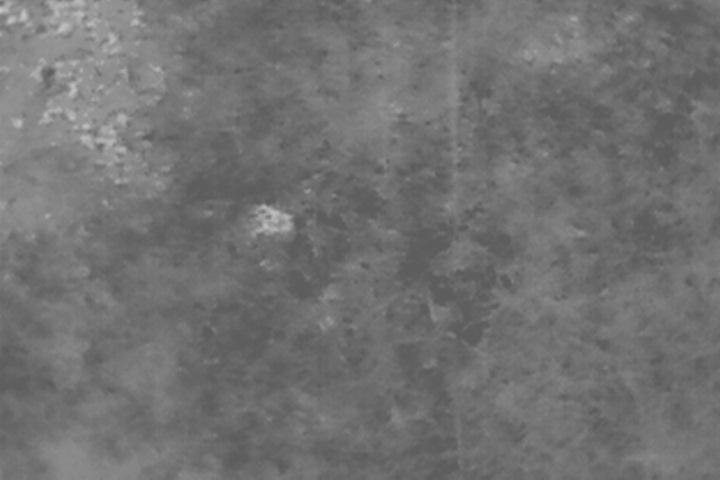landmine: (257, 203, 295, 237)
